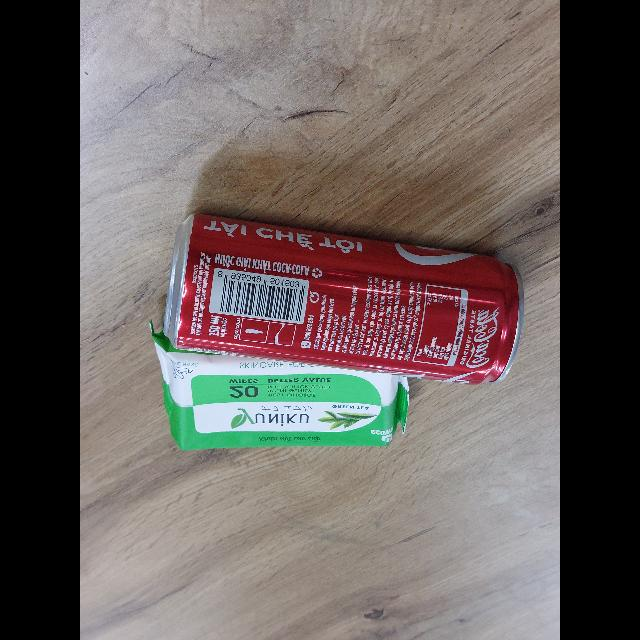coca_cola: (164, 214, 524, 386)
khan_giay: (156, 341, 409, 450)
